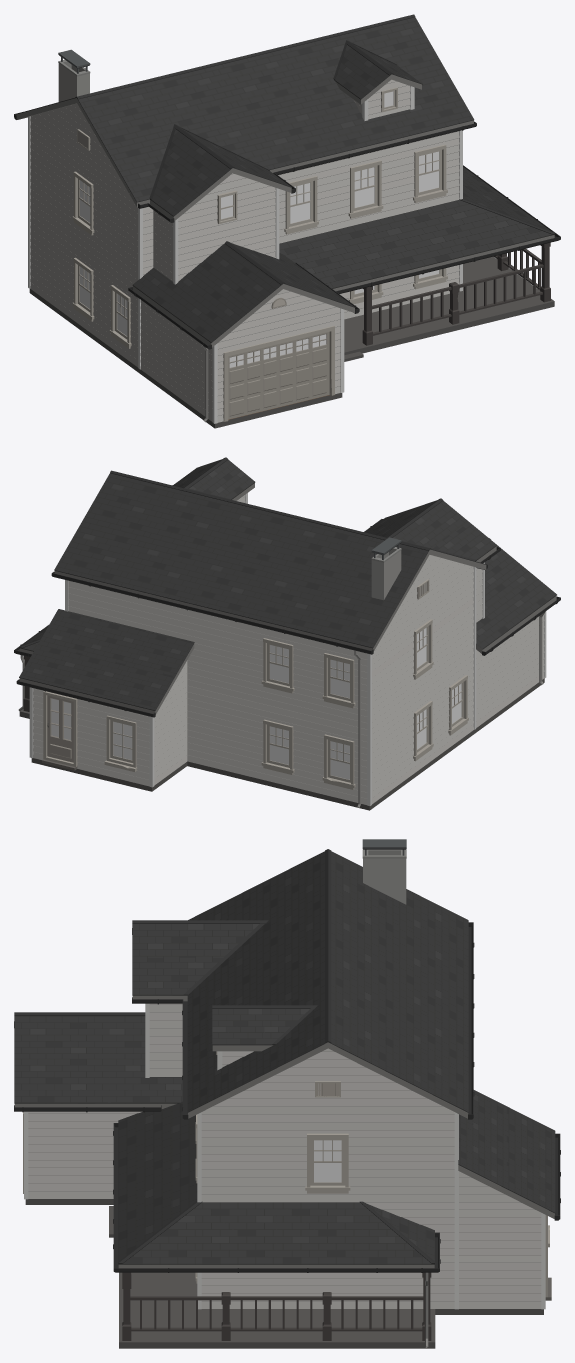
Rendered from SM_Bldg_Suburb_House_07.fbx.
3 views of the same model, one above another, from view 1: azimuth 30°, elevation 25°; view 2: azimuth 150°, elevation 25°; view 3: azimuth 270°, elevation 25° (orthographic). The views are drawn at different scales.
Visible parts, largest first — view 1: SM_Bldg_Suburb_House_07, SM_Bldg_Suburb_House_07_Glass; view 2: SM_Bldg_Suburb_House_07, SM_Bldg_Suburb_House_07_Glass; view 3: SM_Bldg_Suburb_House_07, SM_Bldg_Suburb_House_07_Glass.
Part boxes in pixels (x1,y1,x2,y2): SM_Bldg_Suburb_House_07: (14, 14, 560, 428); SM_Bldg_Suburb_House_07_Glass: (80, 91, 439, 336); SM_Bldg_Suburb_House_07: (14, 457, 560, 810); SM_Bldg_Suburb_House_07_Glass: (113, 627, 461, 779); SM_Bldg_Suburb_House_07: (14, 839, 560, 1348); SM_Bldg_Suburb_House_07_Glass: (314, 1140, 341, 1182).
Size of the model in its own units: 1542 by 945 by 1577.
